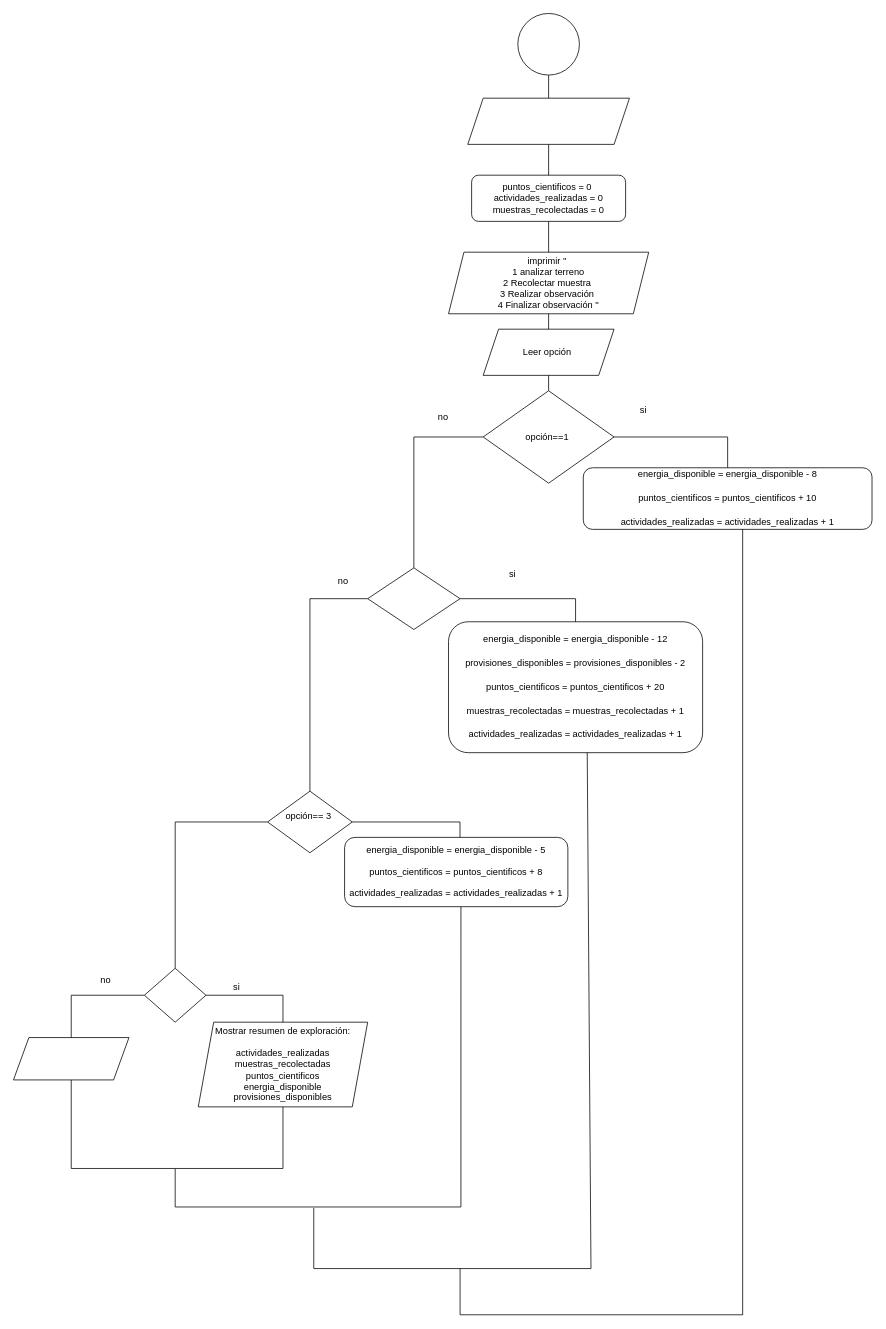
Image size: 886x1329. Some labels were removed from this diagram. Here are the shapes that lost their labels. From the top down, the centre of each, then its label:
At (548,44): "inicio".
At (548,120): "Leer energia_disponible, proviciones_disponible".
At (413,598): "opción== 2".
At (175,995): "opción == 4".
At (71,1058): "imprimir ''Opción no válida''".
